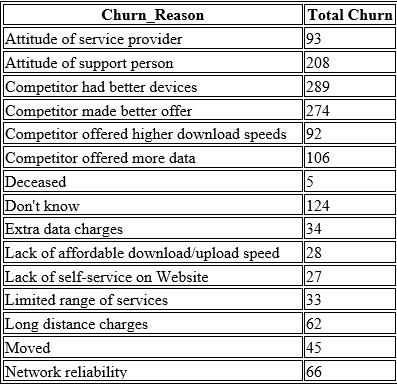

Layout of this report page (visuals, bound fields, positions):
{"tool":"powerbi","page":{"name":"Churn Reason","canvas":[320,240],"ordinal":1},"visuals":[{"type":"tableEx","fields":{"Values":["prod_Churn.Churn_Reason","tbl_Measures.Total Churn"]},"box":[0,0,400,407],"z":0}]}

Visuals, with their boxes on the page's 320x240 design canvas (x1, y1, x2, y2). These are canvas units, not pixel positions in the 397x385 screenshot, which may show the page scaled, cropped or inside an application window:
tableEx - prod_Churn.Churn_Reason x tbl_Measures.Total Churn: detection(0, 0, 400, 407)
